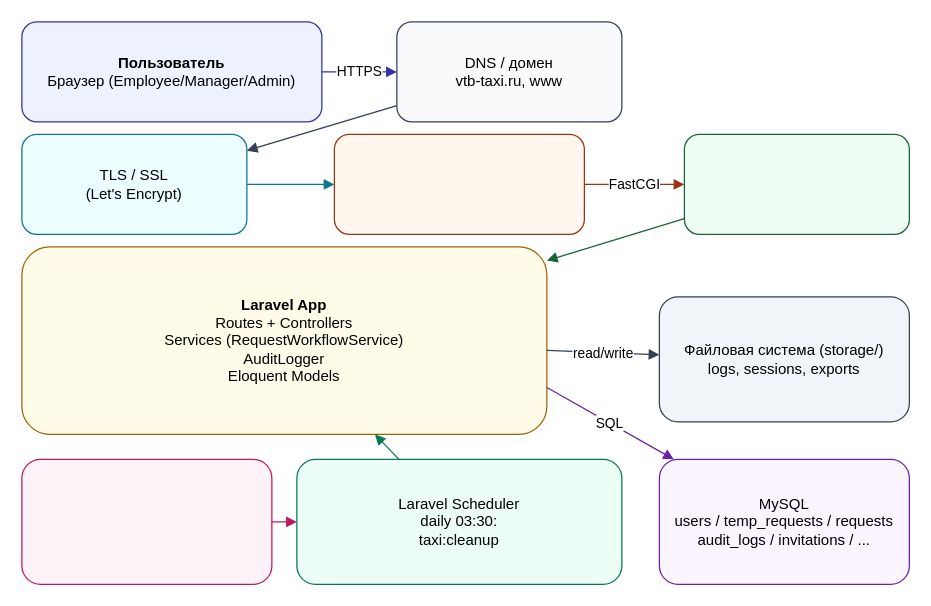
The diagram is 931 pixels wide and 606 high, and some of its shapes have lost their labels. Each missing label, with the centre of its shape:
"Cron (хостинг) каждую минуту: artisan schedule:run" goes at point (146, 521).
"PHP 8.3 PHP-FPM / CGI" goes at point (796, 183).
"Web server nginx/Apache (FastCGI)" goes at point (458, 183).
